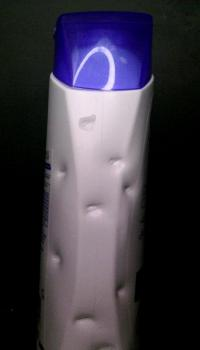dent_unacceptable: (103, 148, 137, 202), (49, 244, 88, 279), (68, 109, 104, 134), (61, 309, 106, 328), (48, 156, 82, 181), (79, 198, 111, 223), (105, 279, 133, 302), (85, 339, 130, 350)
